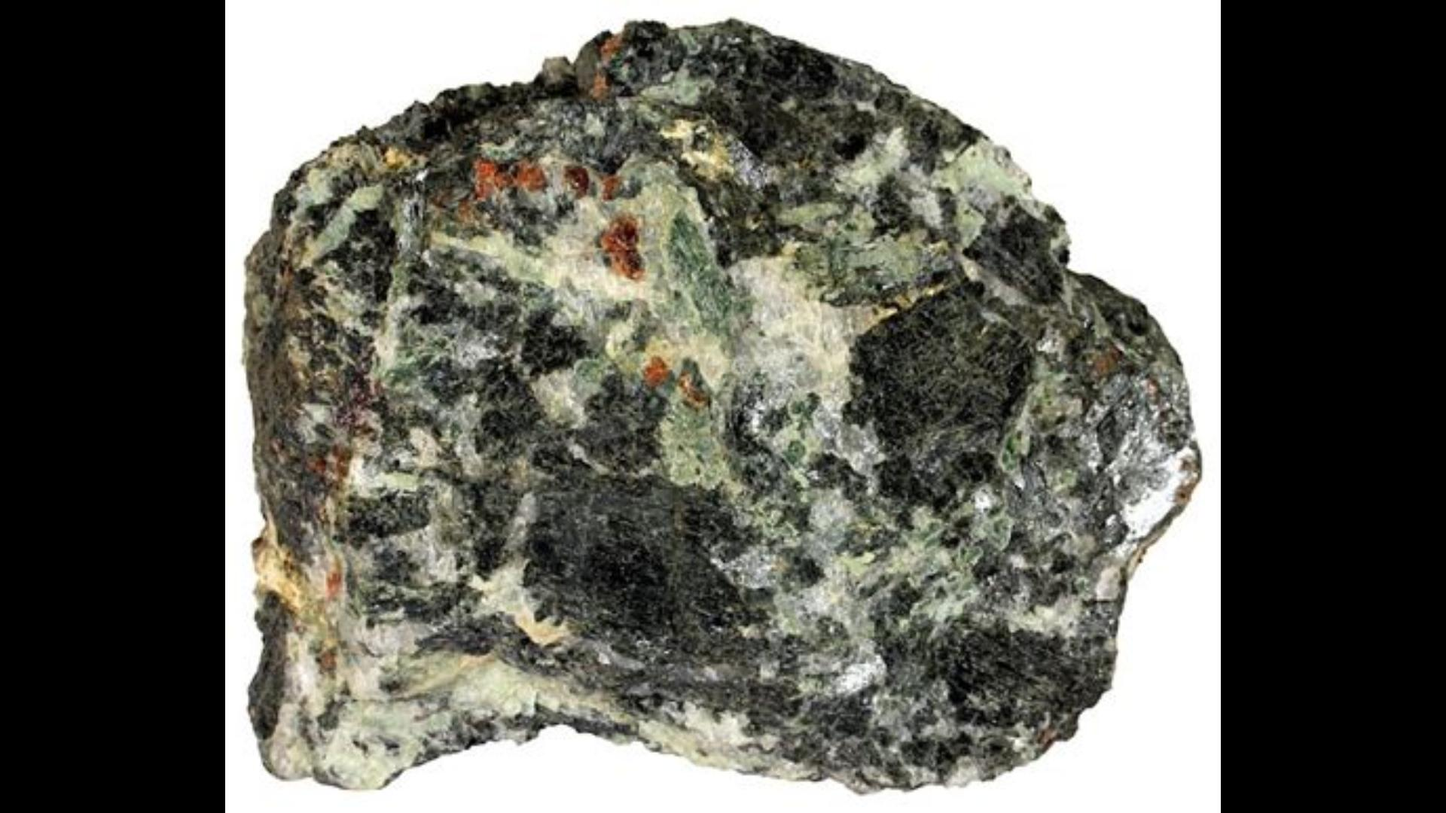rock: (248, 23, 1196, 784)
